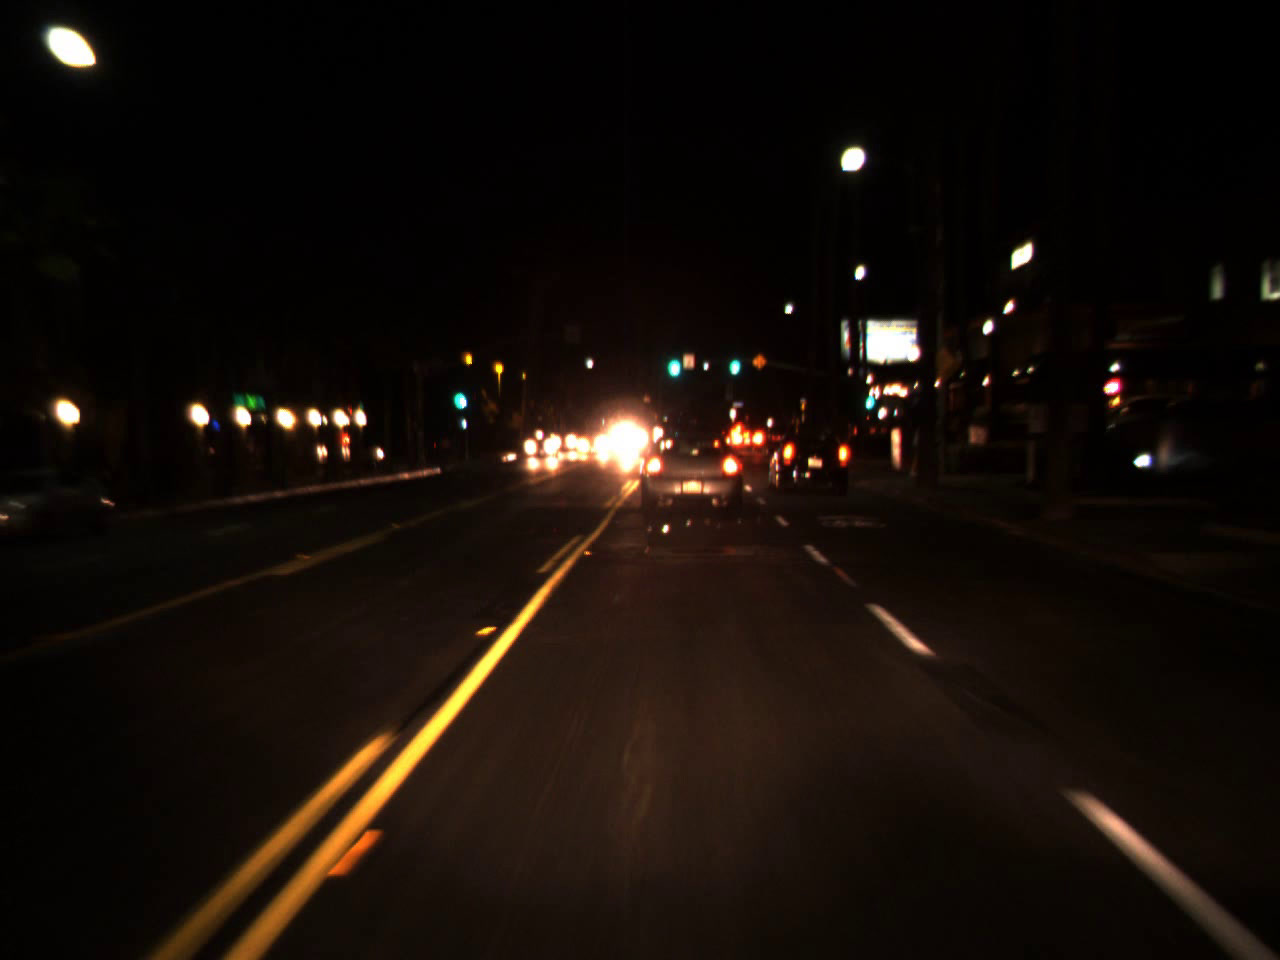go: (663, 338, 682, 383), (859, 379, 877, 415), (725, 344, 743, 377), (451, 373, 465, 415)
